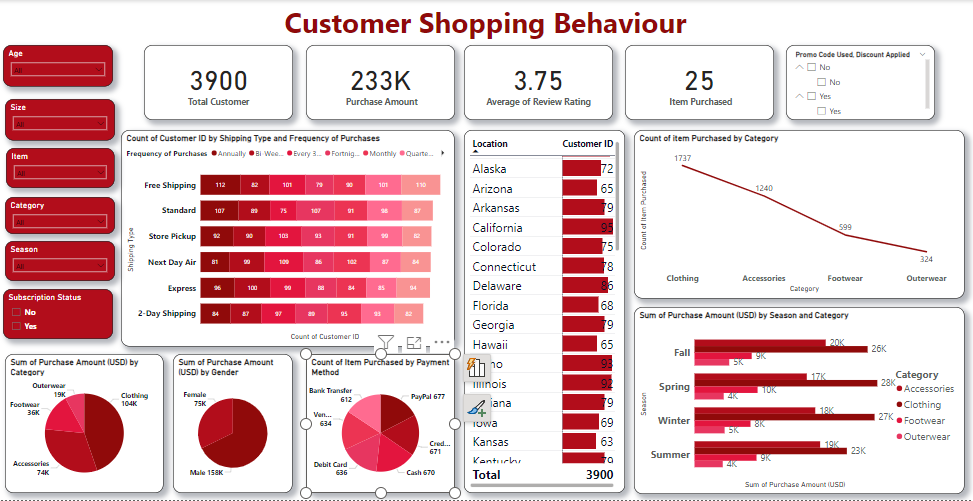

The dashboard page shown, as its layout file describes it:
{"tool":"powerbi","page":{"name":"Page 1","canvas":[1950,1000],"ordinal":0},"visuals":[{"type":"textbox","box":[0,0,1950,90],"z":0},{"type":"tableEx","fields":{"Values":["shopping_behavior_updated.Location","CountNonNull(shopping_behavior_updated.Customer ID)"]},"box":[932.6,260.9,321.7,726.1],"z":1000},{"type":"clusteredBarChart","fields":{"Category":["shopping_behavior_updated.Season"],"Y":["Sum(shopping_behavior_updated.Purchase Amount (USD))"],"Series":["shopping_behavior_updated.Category"]},"box":[1271.7,613,660.9,373.9],"z":2000},{"type":"barChart","fields":{"Category":["shopping_behavior_updated.Shipping Type"],"Y":["CountNonNull(shopping_behavior_updated.Customer ID)"],"Series":["shopping_behavior_updated.Frequency of Purchases"]},"box":[245.7,260.9,667.4,432.6],"z":3000},{"type":"lineChart","title":"Count of item Purchased by Category","fields":{"Category":["shopping_behavior_updated.Category"],"Y":["CountNonNull(shopping_behavior_updated.Item Purchased)"]},"box":[1271.7,260.9,660.9,337],"z":4000},{"type":"pieChart","fields":{"Category":["shopping_behavior_updated.Gender"],"Y":["Sum(shopping_behavior_updated.Purchase Amount (USD))"]},"box":[350,708.7,239.1,278.3],"z":5000},{"type":"card","fields":{"Values":["CountNonNull(shopping_behavior_updated.Customer ID)"]},"box":[292,90,298,150],"z":6000},{"type":"slicer","fields":{"Values":["shopping_behavior_updated.Promo Code Used","shopping_behavior_updated.Discount Applied"]},"box":[1576,90,298,150],"z":7000},{"type":"card","fields":{"Values":["Count(shopping_behavior_updated.Item Purchased)"]},"box":[1254,90,298,150],"z":8000},{"type":"card","fields":{"Values":["Avg(shopping_behavior_updated.Review Rating)"]},"box":[932,90,298,150],"z":9000},{"type":"card","fields":{"Values":["Sum(shopping_behavior_updated.Purchase Amount (USD))"]},"box":[616,90,298,150],"z":10000},{"type":"pieChart","fields":{"Y":["Sum(shopping_behavior_updated.Purchase Amount (USD))"],"Category":["shopping_behavior_updated.Category"]},"box":[13,708.7,317.4,278.3],"z":11000},{"type":"slicer","title":"Size","fields":{"Values":["shopping_behavior_updated.Size"]},"box":[13,197.8,219.6,82.6],"z":12000},{"type":"slicer","title":"Subscription Status","fields":{"Values":["shopping_behavior_updated.Subscription Status"]},"box":[10.9,578.3,219.6,100],"z":13000},{"type":"slicer","title":"Season","fields":{"Values":["shopping_behavior_updated.Season"]},"box":[13,482.6,219.6,80.4],"z":14000},{"type":"slicer","title":"Category","fields":{"Values":["shopping_behavior_updated.Category"]},"box":[13,393.5,219.6,73.9],"z":15000},{"type":"slicer","title":"Item","fields":{"Values":["shopping_behavior_updated.Item Purchased"]},"box":[15.2,295.7,217.4,80.4],"z":16000},{"type":"slicer","title":"Age","fields":{"Values":["shopping_behavior_updated.Age"]},"box":[10.9,89.1,219.6,82.6],"z":17000},{"type":"pieChart","fields":{"Category":["shopping_behavior_updated.Payment Method"],"Y":["CountNonNull(shopping_behavior_updated.Item Purchased)"]},"box":[615.2,708.7,297.8,278.3],"z":18000}]}

Visuals, with their boxes in screenshot pixels (x1, y1, x2, y2), scaled from the page's 1950x1000 canvas onto the 973x501 screenshot:
textbox: {"x1": 0, "y1": 0, "x2": 972, "y2": 45}
tableEx - shopping_behavior_updated.Location x CountNonNull(shopping_behavior_updated.Customer ID): {"x1": 465, "y1": 131, "x2": 626, "y2": 494}
clusteredBarChart - shopping_behavior_updated.Season x Sum(shopping_behavior_updated.Purchase Amount (USD)): {"x1": 635, "y1": 307, "x2": 964, "y2": 494}
barChart - shopping_behavior_updated.Shipping Type x CountNonNull(shopping_behavior_updated.Customer ID): {"x1": 123, "y1": 131, "x2": 456, "y2": 347}
"Count of item Purchased by Category" lineChart: {"x1": 635, "y1": 131, "x2": 964, "y2": 300}
pieChart - shopping_behavior_updated.Gender x Sum(shopping_behavior_updated.Purchase Amount (USD)): {"x1": 175, "y1": 355, "x2": 294, "y2": 494}
card - CountNonNull(shopping_behavior_updated.Customer ID): {"x1": 146, "y1": 45, "x2": 294, "y2": 120}
slicer - shopping_behavior_updated.Promo Code Used x shopping_behavior_updated.Discount Applied: {"x1": 786, "y1": 45, "x2": 935, "y2": 120}
card - Count(shopping_behavior_updated.Item Purchased): {"x1": 626, "y1": 45, "x2": 774, "y2": 120}
card - Avg(shopping_behavior_updated.Review Rating): {"x1": 465, "y1": 45, "x2": 614, "y2": 120}
card - Sum(shopping_behavior_updated.Purchase Amount (USD)): {"x1": 307, "y1": 45, "x2": 456, "y2": 120}
pieChart - Sum(shopping_behavior_updated.Purchase Amount (USD)) x shopping_behavior_updated.Category: {"x1": 6, "y1": 355, "x2": 165, "y2": 494}
"Size" slicer: {"x1": 6, "y1": 99, "x2": 116, "y2": 140}
"Subscription Status" slicer: {"x1": 5, "y1": 290, "x2": 115, "y2": 340}
"Season" slicer: {"x1": 6, "y1": 242, "x2": 116, "y2": 282}
"Category" slicer: {"x1": 6, "y1": 197, "x2": 116, "y2": 234}
"Item" slicer: {"x1": 8, "y1": 148, "x2": 116, "y2": 188}
"Age" slicer: {"x1": 5, "y1": 45, "x2": 115, "y2": 86}
pieChart - shopping_behavior_updated.Payment Method x CountNonNull(shopping_behavior_updated.Item Purchased): {"x1": 307, "y1": 355, "x2": 456, "y2": 494}
